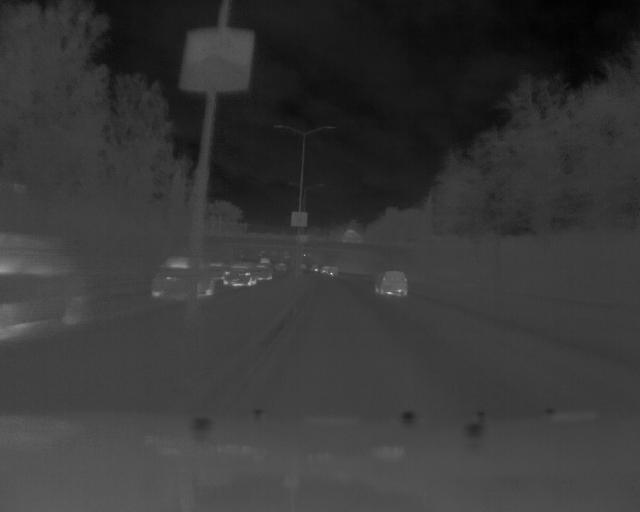car: (147, 250, 214, 304), (222, 257, 258, 290), (373, 268, 410, 297)
